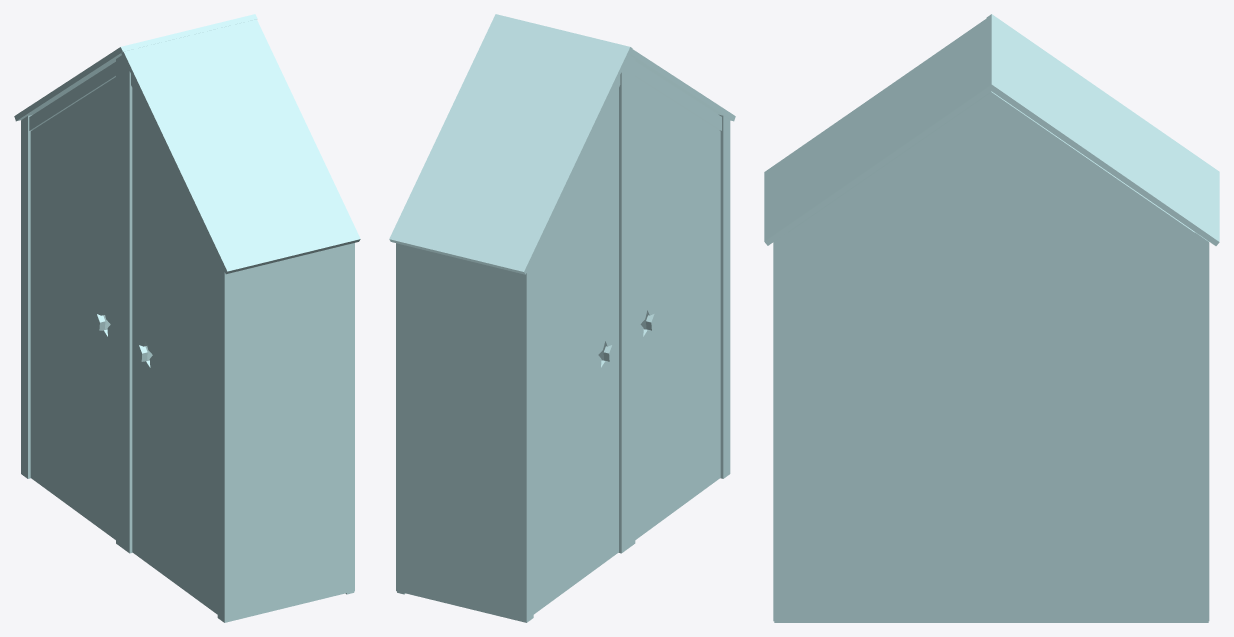
Rendered from Furn2_chest_right_color1_joined.fbx.
3 renders of one model, left to right at view 1: azimuth 30°, elevation 25°; view 2: azimuth 150°, elevation 25°; view 3: azimuth 270°, elevation 25°, orthographic. The views are drawn at different scales.
Parts seen in each view (by area): view 1: Куб.148; view 2: Куб.148; view 3: Куб.148.
Part boxes in pixels (x1,y1,x2,y2): Куб.148: (14, 14, 360, 622); Куб.148: (389, 14, 735, 622); Куб.148: (764, 14, 1219, 622).
Bounding box in the file's own units: 124 × 442 × 338.
